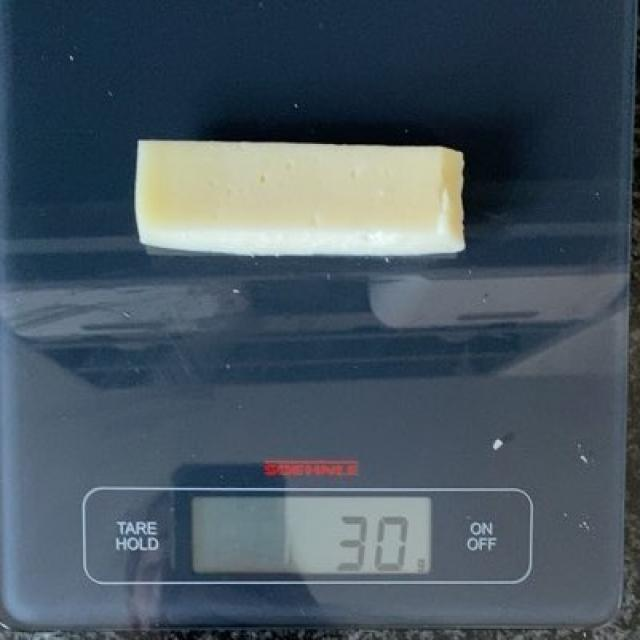cheese: (135, 140, 465, 257)
